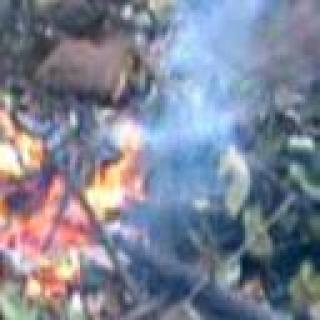fire: (0, 12, 131, 290)
